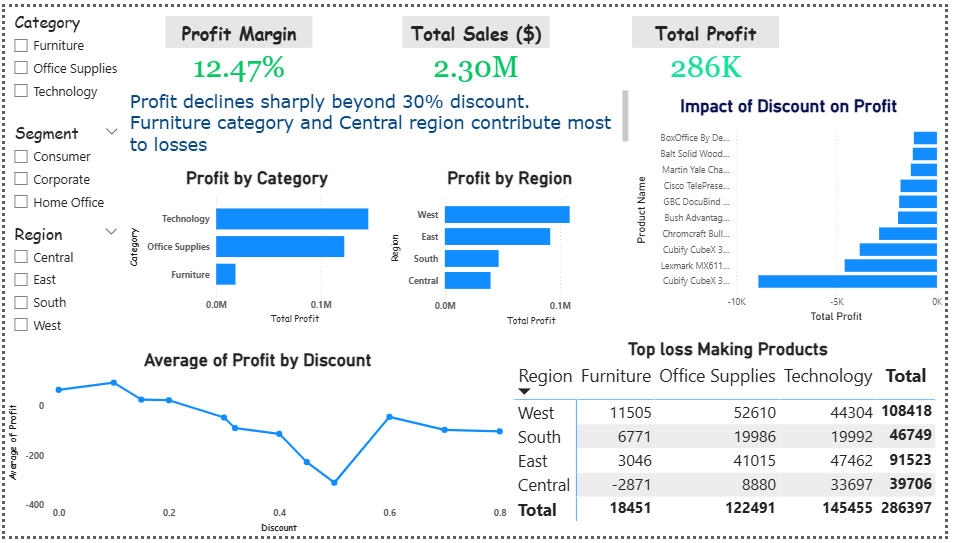

Layout of this report page (visuals, bound fields, positions):
{"tool":"powerbi","page":{"name":"Sales Overview","canvas":[1280,720],"ordinal":0},"visuals":[{"type":"card","title":"Total Sales ($)","fields":{"Values":["Sample - Superstore.Total Sales"]},"box":[540.8,12.2,200,95.9],"z":0},{"type":"card","title":"Profit Margin","fields":{"Values":["Sample - Superstore.Profit Margin"]},"box":[218.4,12.2,200,95.9],"z":1000},{"type":"card","title":"Total Profit","fields":{"Values":["Sample - Superstore.Total Profit"]},"box":[853.1,12.2,200,95.9],"z":2000},{"type":"clusteredBarChart","title":"Profit by Category","fields":{"Y":["Sample - Superstore.Total Profit"],"Category":["Sample - Superstore.Category"]},"box":[165.3,218.4,355.1,218.4],"z":3000},{"type":"clusteredBarChart","title":"Profit by Region","fields":{"Category":["Sample - Superstore.Region"],"Y":["Sample - Superstore.Total Profit"]},"box":[520.4,218.4,332.7,220.4],"z":4000},{"type":"lineChart","fields":{"Category":["Sample - Superstore.Discount"],"Y":["Avg(Sample - Superstore.Profit)"]},"box":[0,465.3,687.8,255.1],"z":5000},{"type":"clusteredBarChart","title":"Impact of Discount on Profit","fields":{"Category":["Sample - Superstore.Product Name"],"Y":["Sample - Superstore.Total Profit"]},"box":[853.1,120.4,426.5,312.2],"z":6000},{"type":"pivotTable","title":"Top loss Making Products","fields":{"Rows":["Sample - Superstore.Region"],"Columns":["Sample - Superstore.Category"],"Values":["Sample - Superstore.Total Profit"]},"box":[687.8,451,591.8,269.4],"z":7000},{"type":"slicer","fields":{"Values":["Sample - Superstore.Category"]},"box":[0,0,166,151.1],"z":8000},{"type":"slicer","fields":{"Values":["Sample - Superstore.Region"]},"box":[0,287.8,165.3,177.6],"z":9000},{"type":"slicer","fields":{"Values":["Sample - Superstore.Segment"]},"box":[0,151.1,166,136.2],"z":10000},{"type":"textbox","box":[165.3,108.2,687.8,95.9],"z":11000}]}

Visuals, with their boxes in screenshot pixels (x1, y1, x2, y2), scaled from the page's 1280x720 canvas onto the 959x543 screenshot:
"Total Sales ($)" card: region(405, 9, 555, 82)
"Profit Margin" card: region(164, 9, 313, 82)
"Total Profit" card: region(639, 9, 789, 82)
"Profit by Category" clusteredBarChart: region(124, 165, 390, 329)
"Profit by Region" clusteredBarChart: region(390, 165, 639, 331)
lineChart - Sample - Superstore.Discount x Avg(Sample - Superstore.Profit): region(0, 351, 515, 542)
"Impact of Discount on Profit" clusteredBarChart: region(639, 91, 958, 326)
"Top loss Making Products" pivotTable: region(515, 340, 958, 542)
slicer - Sample - Superstore.Category: region(0, 0, 124, 114)
slicer - Sample - Superstore.Region: region(0, 217, 124, 351)
slicer - Sample - Superstore.Segment: region(0, 114, 124, 217)
textbox: region(124, 82, 639, 154)
